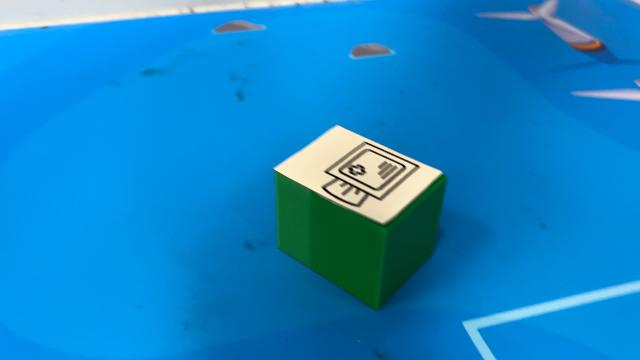napkin: (271, 121, 449, 310)
